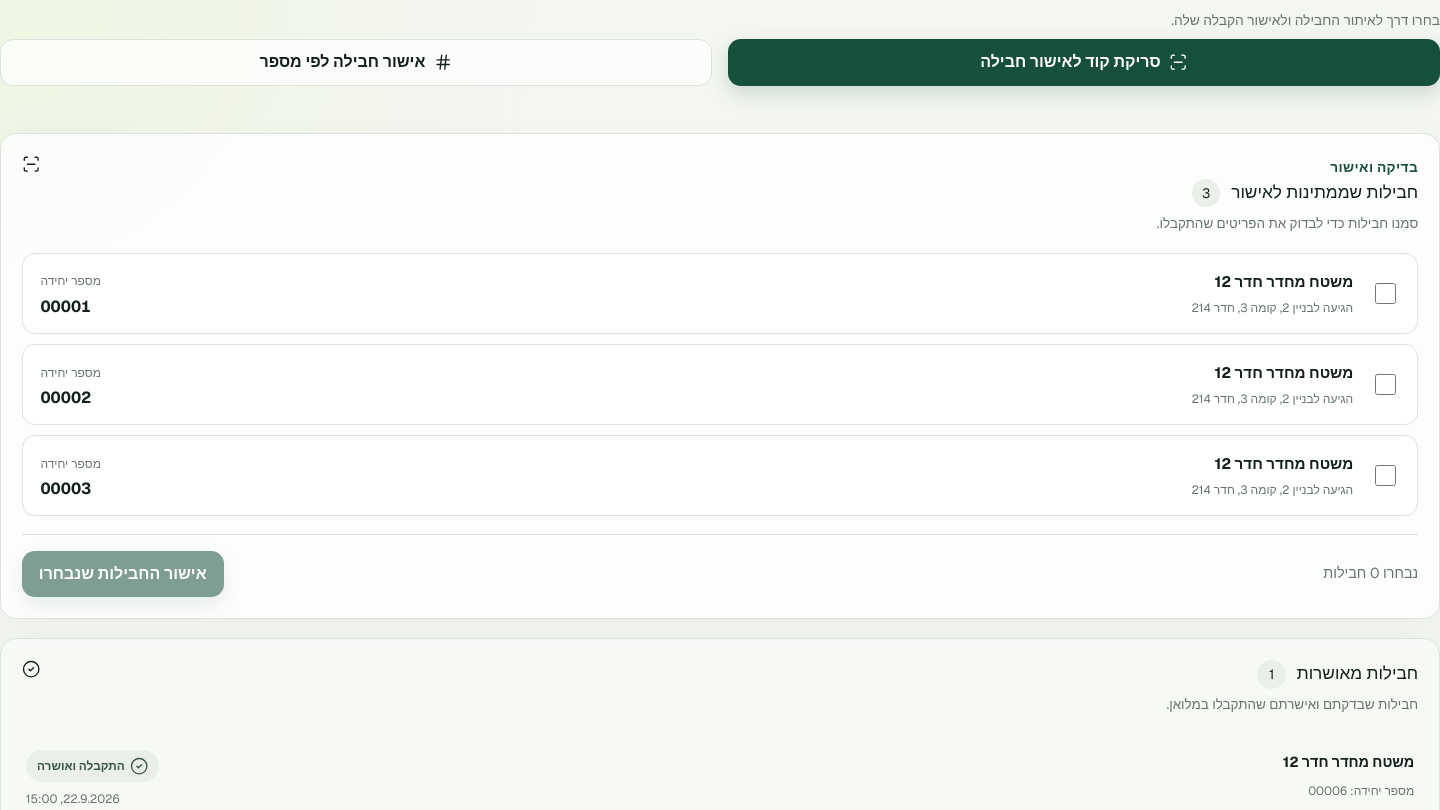
Test case: package pickup › keeps the dialog open on save failure, then allows retry
Expected: the checkbox named "בחירת חבילה 00001" is shown, [1375,283,1396,304]
Click the button "אישור חבילה לפי מספר" at coordinates (356, 62), box [0,39,712,86]
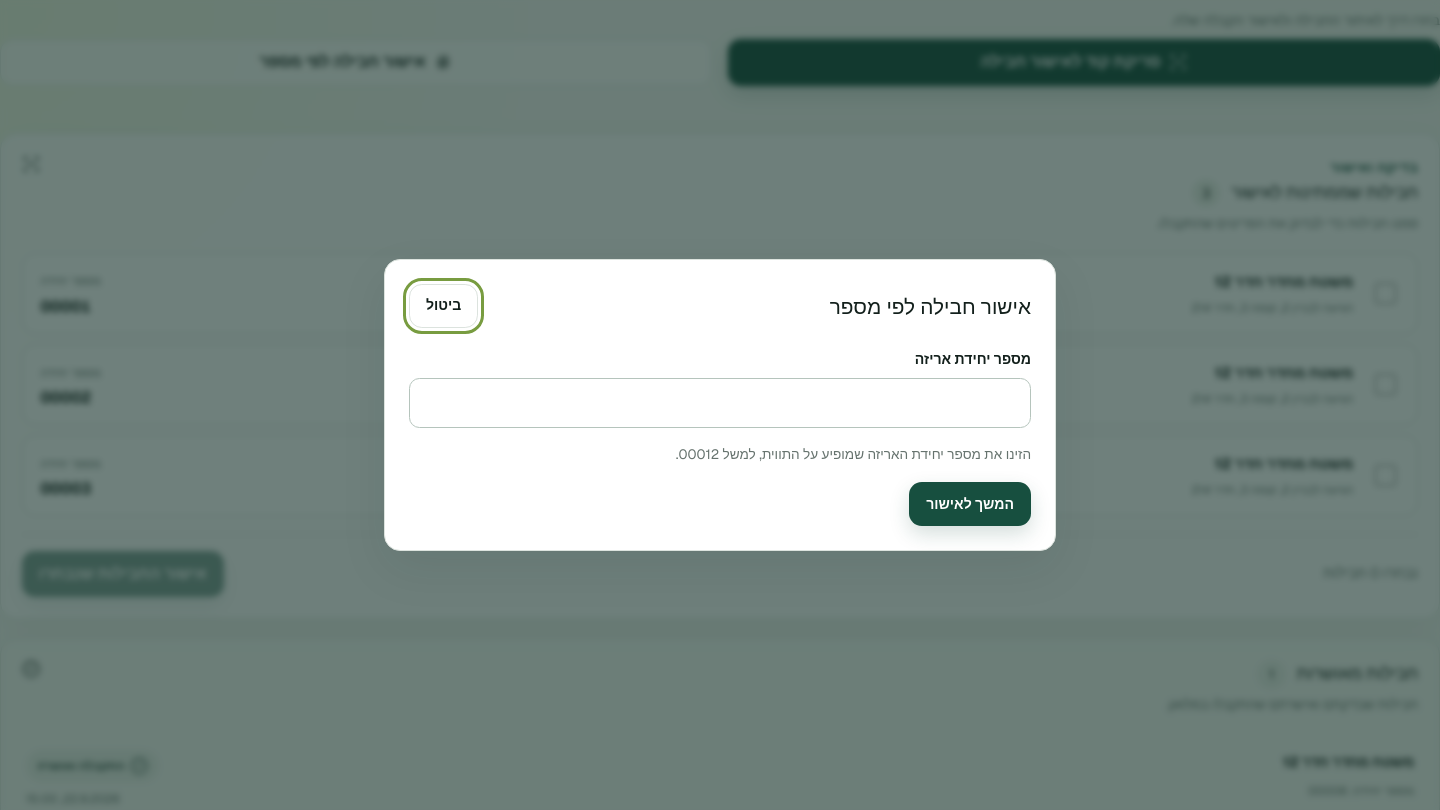
Type "1" into the field labelled "מספר יחידת אריזה" at coordinates (720, 404), box [409,378,1031,428]
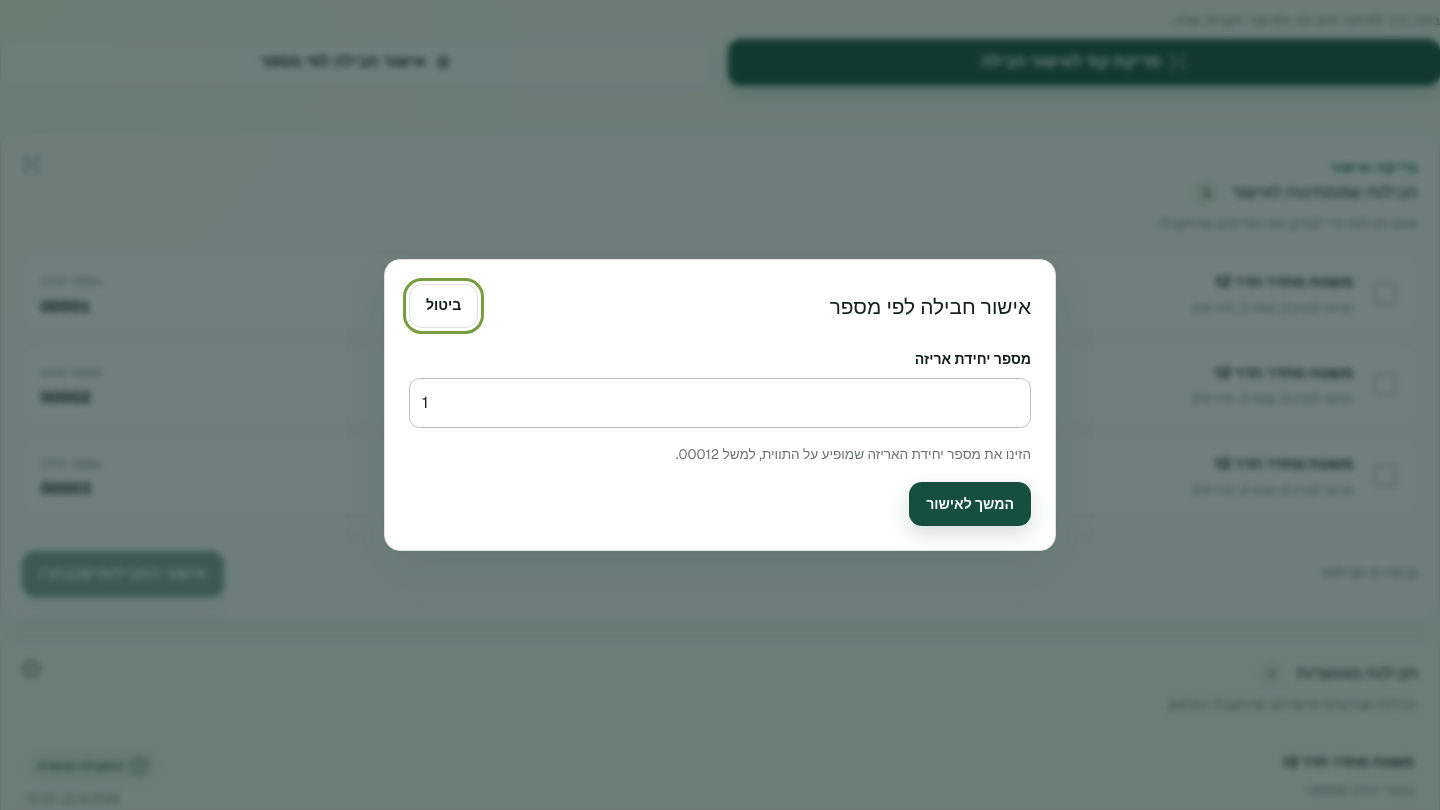
Submit the form named "המשך לאישור", box [409,349,1031,526]
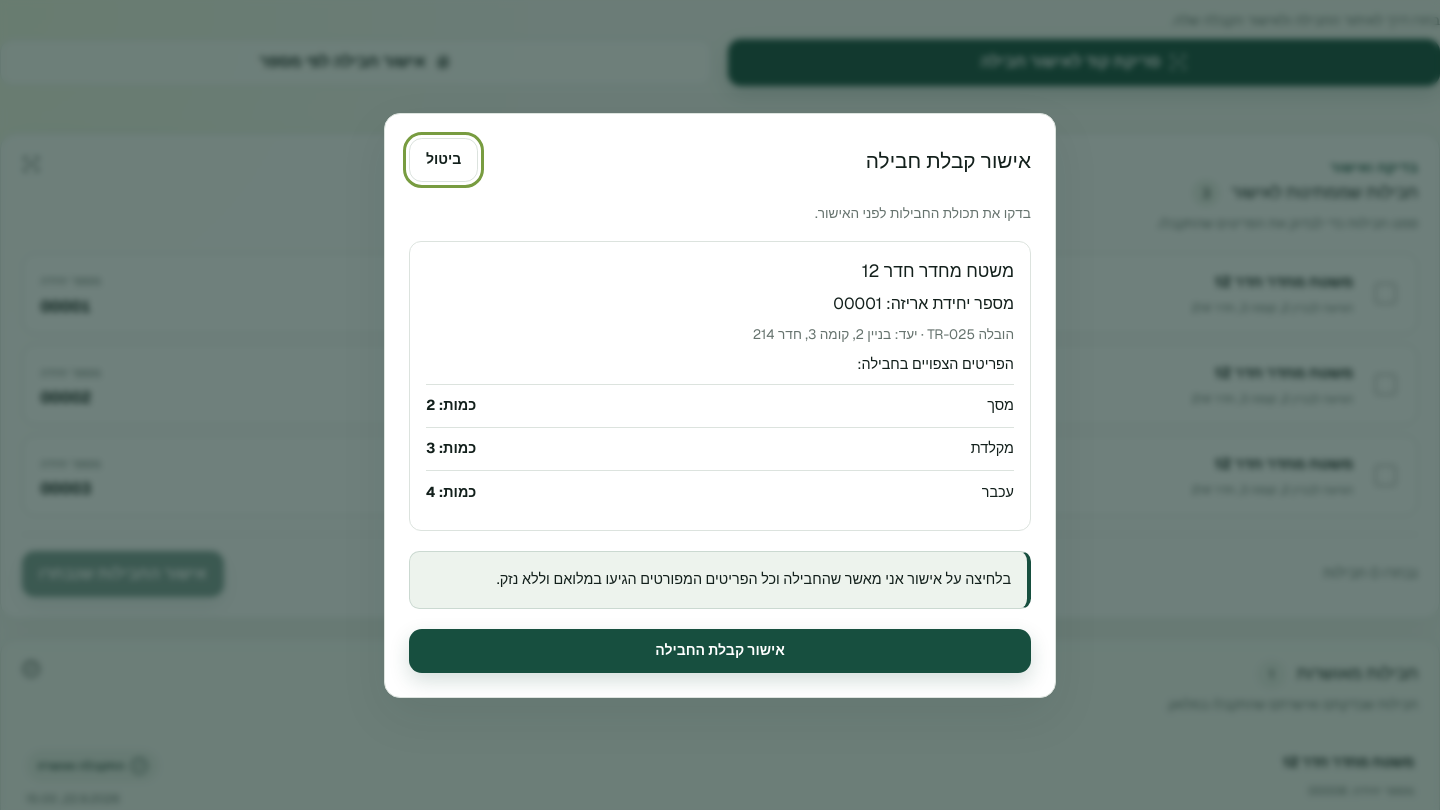
Expected: the dialog "אישור קבלת חבילה" is shown, [384,112,1056,698]
Click the button "אישור קבלת החבילה" at coordinates (720, 650), box [409,628,1031,672]
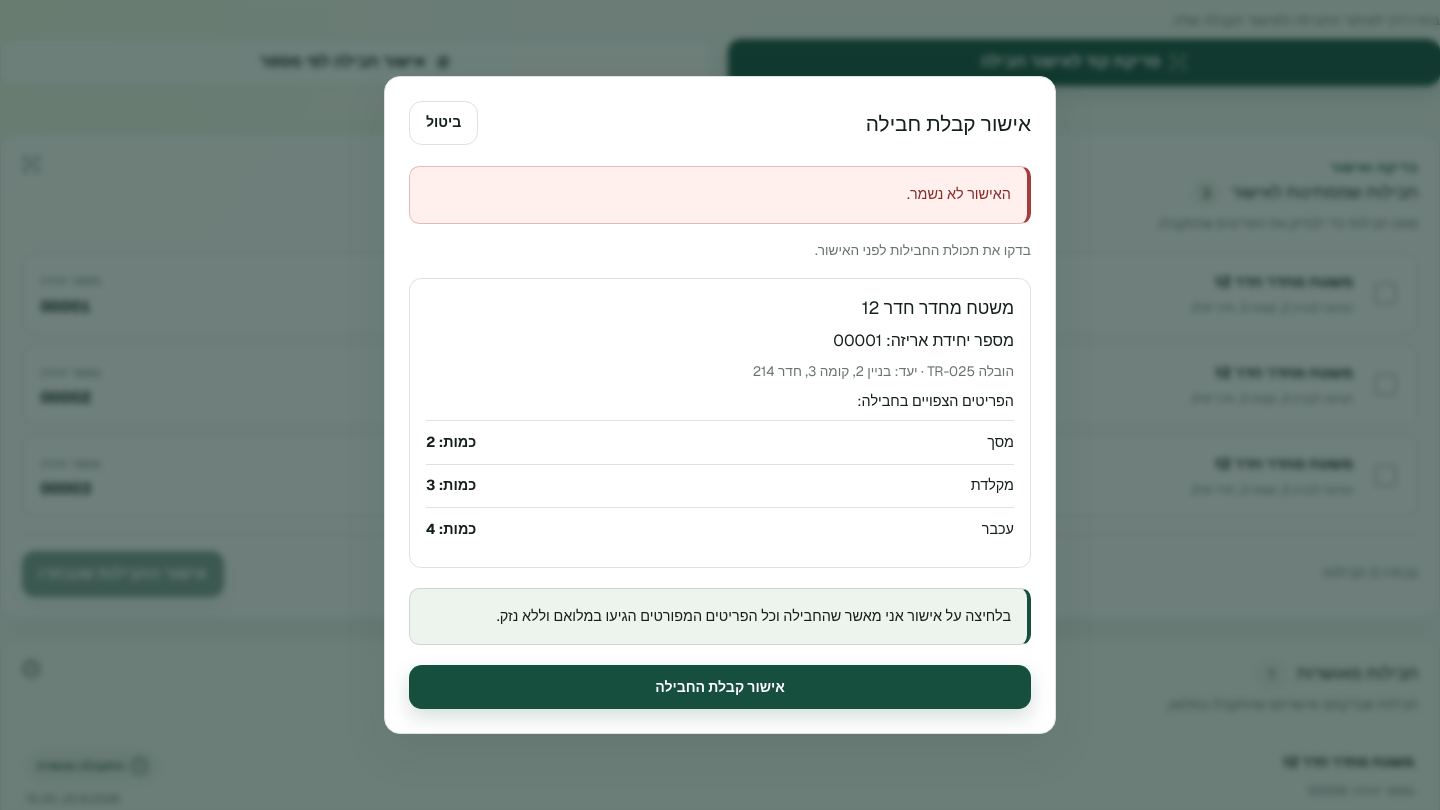
Expected: the message reads "האישור לא נשמר.", [907,185,1011,203]
Click the button "אישור קבלת החבילה" at coordinates (720, 687), box [409,665,1031,709]
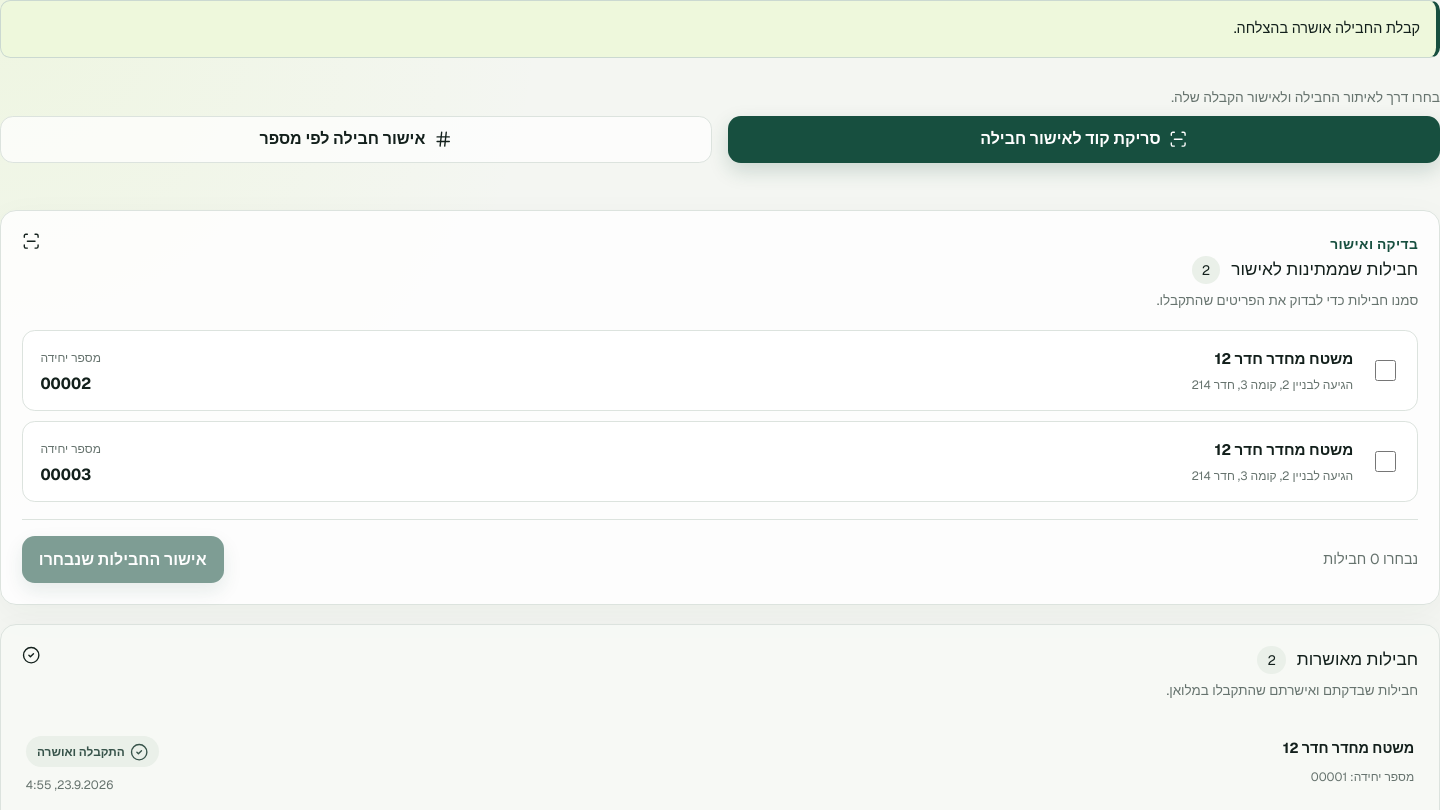
Expected: the text "קבלת החבילה אושרה בהצלחה." is shown, [0,0,1439,58]
